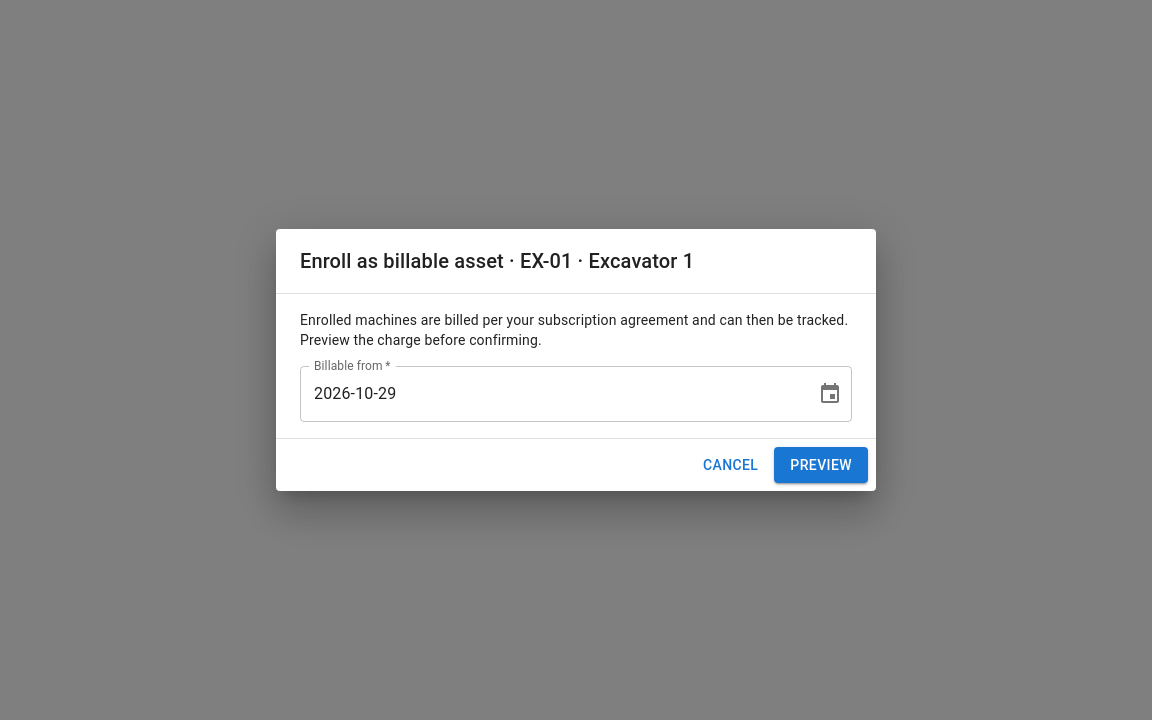
Scenario: EnrollMachineDialog › explains when there is no proration charge
Click the button "Preview". click: [821, 465]
box: [774, 447, 868, 483]
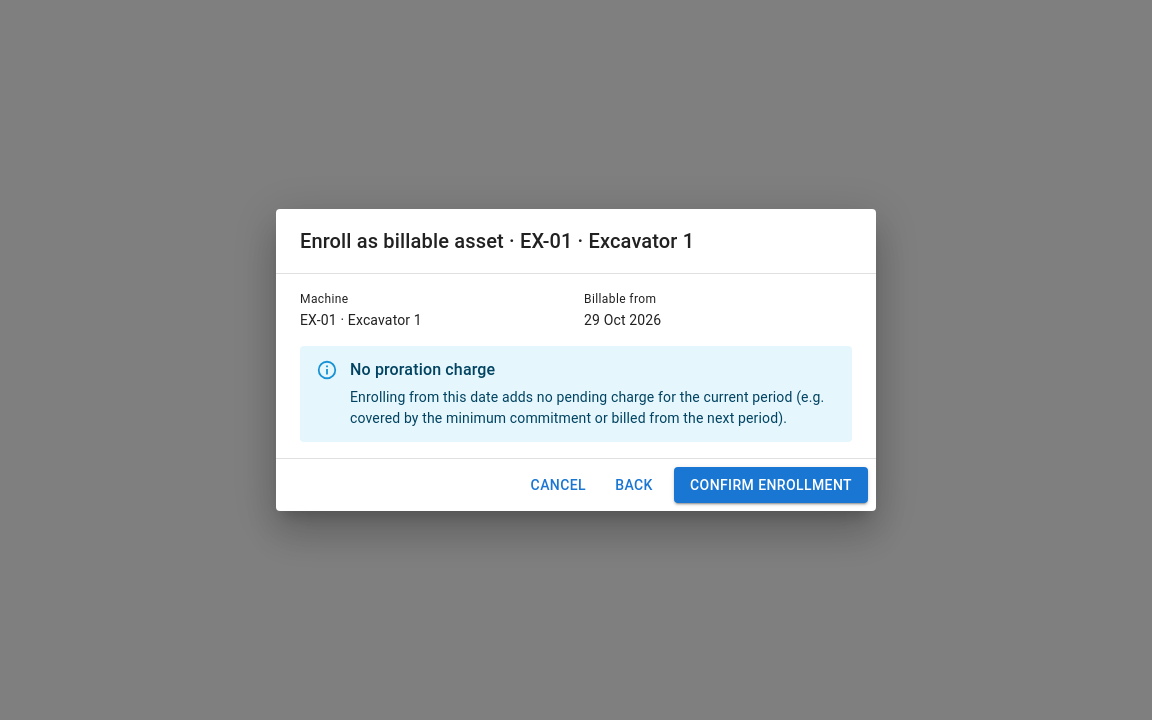
Expected: the text "No proration charge" is shown, [350, 360, 495, 379]
